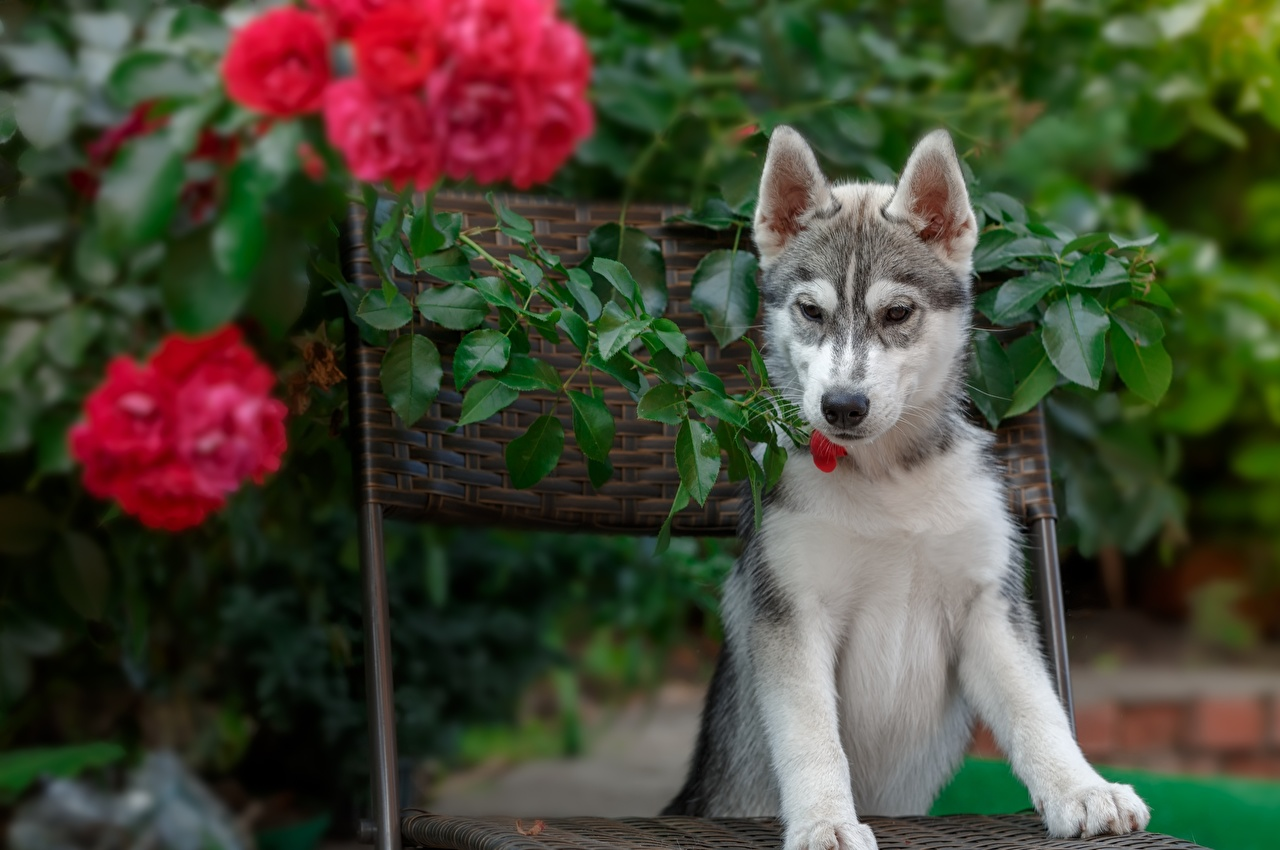husky: (718, 116, 1016, 524)
